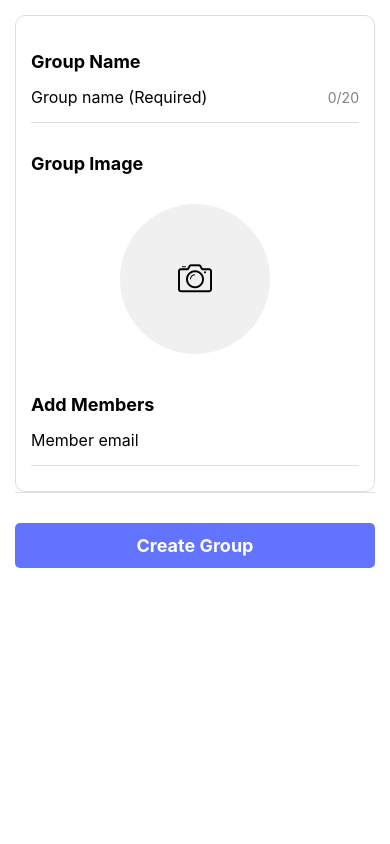
CreateGroupScreen › displays error for no members added
Type "Test Group" into the field with placeholder "Group name (Required)". click: [174, 97]
box: [31,82,318,112]
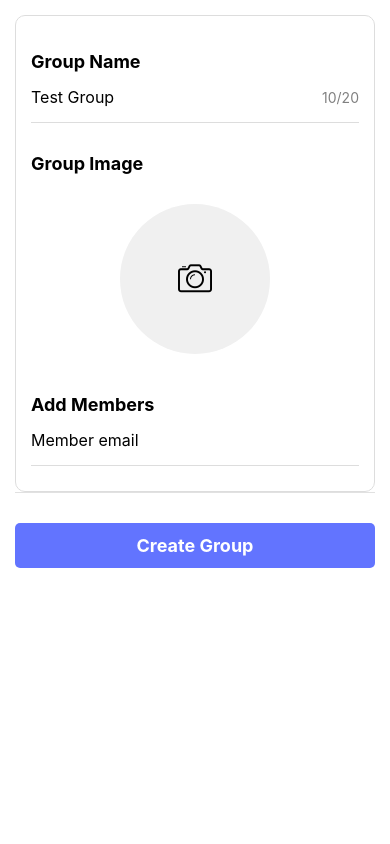
Click the button "Create Group". click: [195, 546]
box: [15,523,375,568]
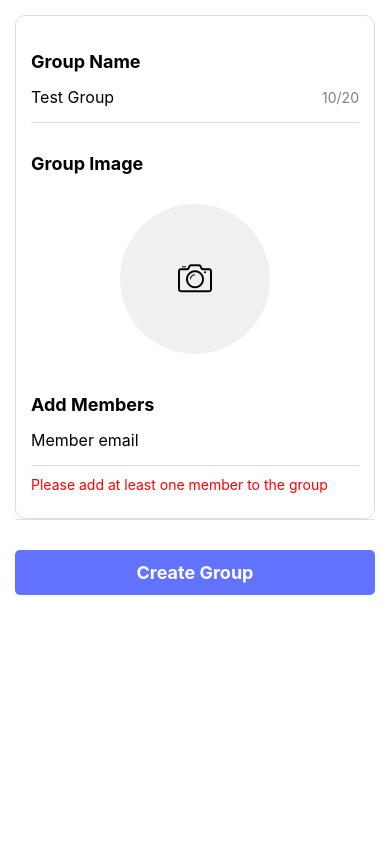
Expected: the text "Please add at least one member to the group" is shown, [31,476,359,493]
